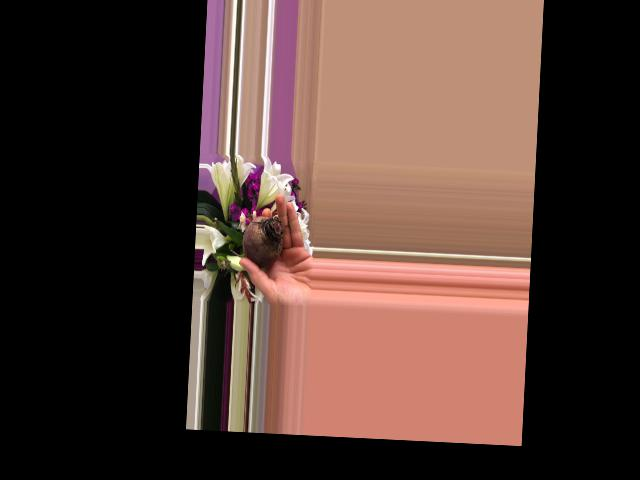beet: (229, 214, 284, 268)
